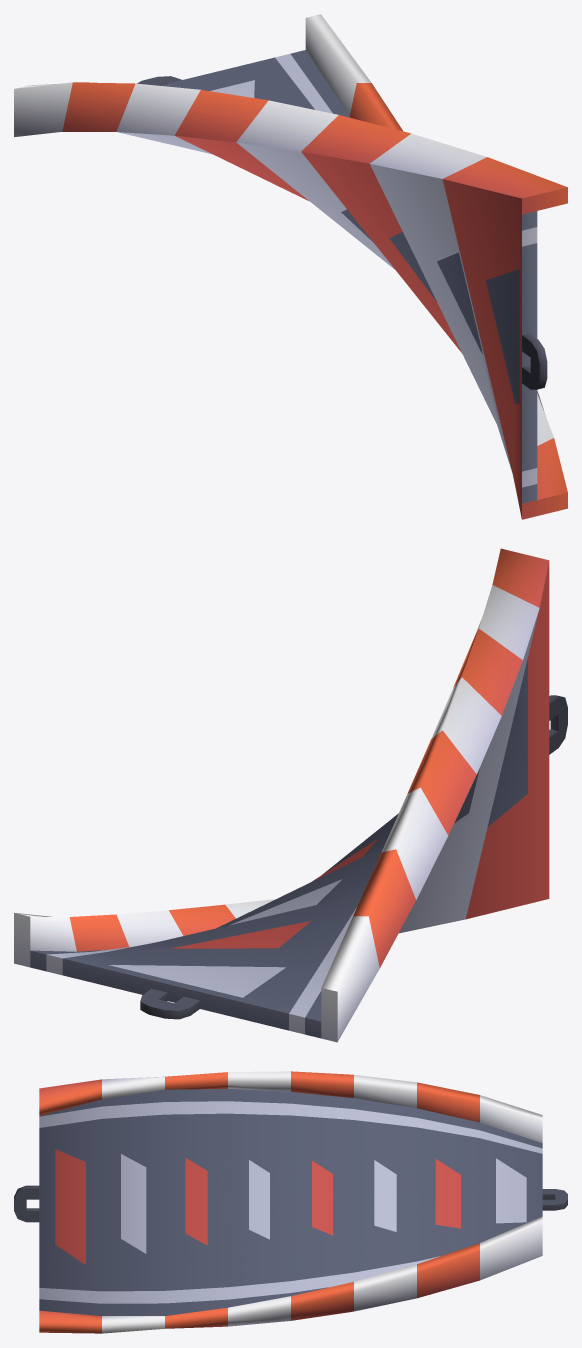
Rendered from track-road-wide-straight-skew-left-side.glb.
The picture shows the model from 3 angles, top to bottom: view 1: azimuth 30°, elevation 25°; view 2: azimuth 150°, elevation 25°; view 3: azimuth 270°, elevation 25°; orthographic projection. The views are drawn at different scales.
Parts seen in each view (by area): view 1: track-road-wide-straight-skew-left-side; view 2: track-road-wide-straight-skew-left-side; view 3: track-road-wide-straight-skew-left-side.
Boxes of the visible parts, x1=… form: track-road-wide-straight-skew-left-side: x1=14, y1=14, x2=567, y2=519; track-road-wide-straight-skew-left-side: x1=14, y1=548, x2=567, y2=1042; track-road-wide-straight-skew-left-side: x1=14, y1=1071, x2=567, y2=1333.
Bounding box in the file's own units: 2.04 × 2.04 × 4.4.
Materials: 1 (1 with a texture image).
